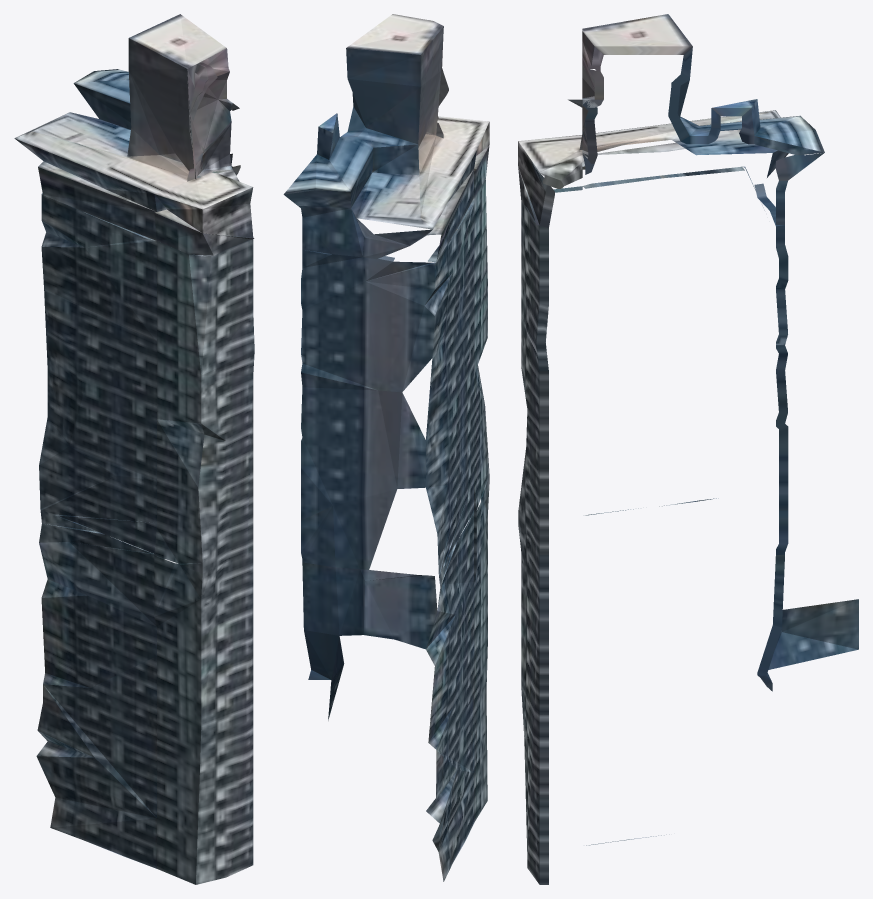
Rendered from chunk_0_1.glb.
3 views of the same model, side by side, from view 1: azimuth 30°, elevation 25°; view 2: azimuth 150°, elevation 25°; view 3: azimuth 270°, elevation 25° (orthographic). The views are drawn at different scales.
Visible parts, largest first — view 1: hero-chunk; view 2: hero-chunk; view 3: hero-chunk.
Boxes of the visible parts, <box> form: hero-chunk: <box>14,14,254,884</box>; hero-chunk: <box>283,14,489,881</box>; hero-chunk: <box>518,14,858,884</box>.
Bounding box in the file's own units: 16.32 × 92.69 × 34.13.
4 materials, 4 textured.
